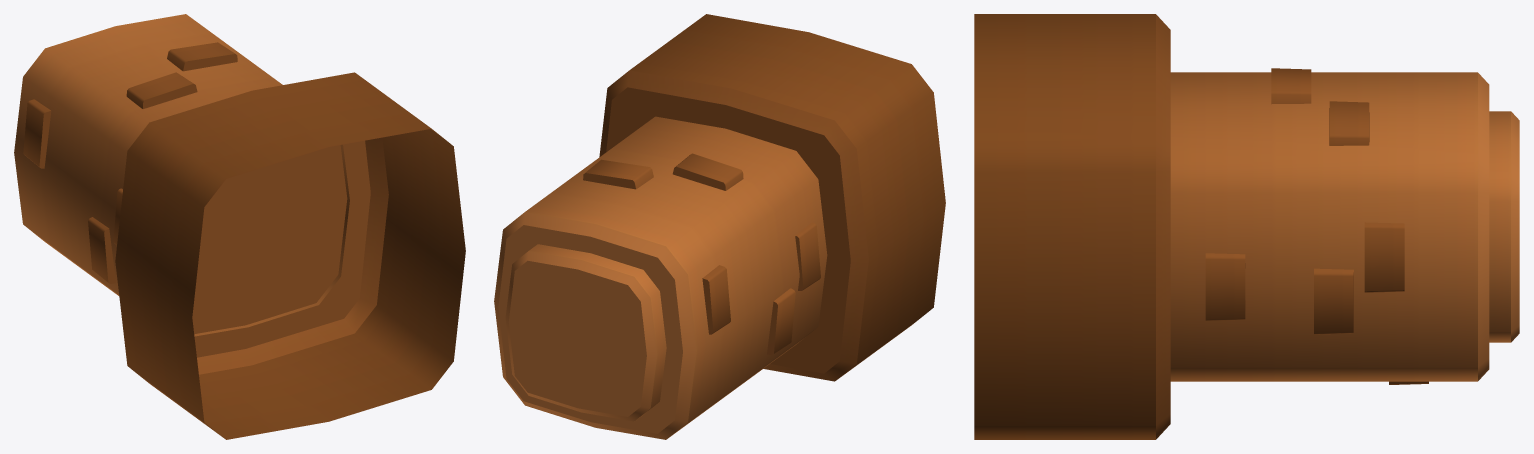
Rendered from Pillar 03.FBX.
3 renders of one model, left to right at view 1: azimuth 30°, elevation 25°; view 2: azimuth 150°, elevation 25°; view 3: azimuth 270°, elevation 25°, orthographic. The views are drawn at different scales.
Parts seen in each view (by area): view 1: Pillar 03; view 2: Pillar 03; view 3: Pillar 03.
Part boxes in pixels (bbox=[...]): Pillar 03: bbox=[14, 14, 465, 439]; Pillar 03: bbox=[494, 14, 945, 439]; Pillar 03: bbox=[974, 14, 1519, 439].
Bounding box in the file's own units: 430 × 412 × 629.
1 material, 1 textured.
